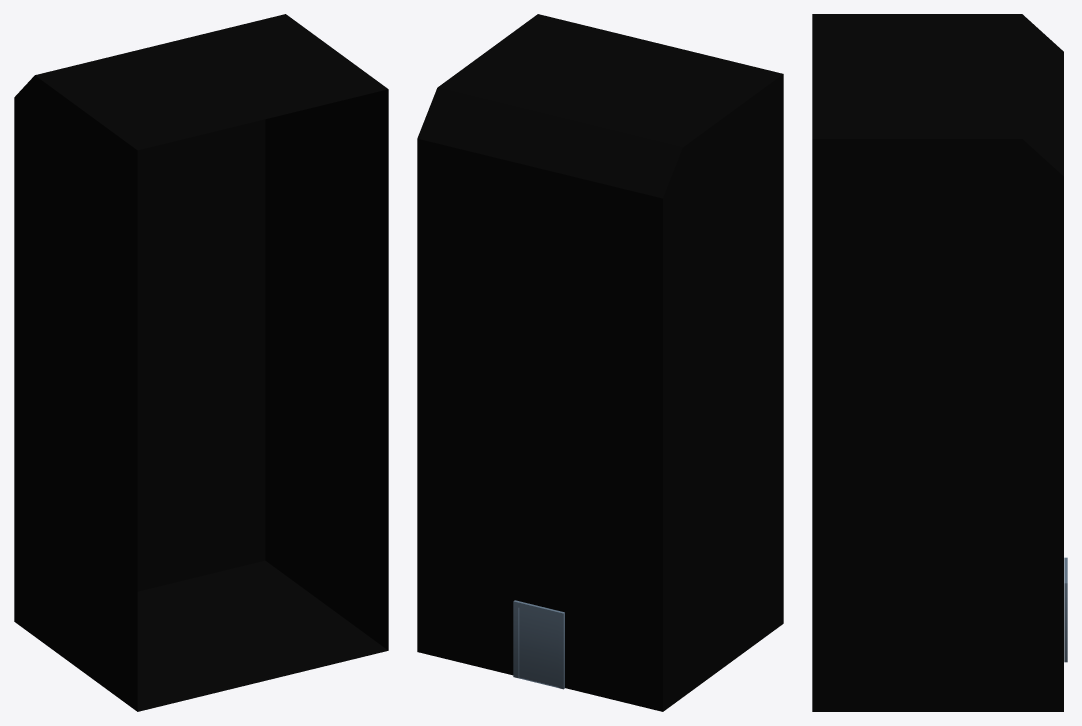
Rendered from Ciudad_Edificio_04.FBX.
3 views of the same model, side by side, from view 1: azimuth 30°, elevation 25°; view 2: azimuth 150°, elevation 25°; view 3: azimuth 270°, elevation 25° (orthographic). The views are drawn at different scales.
Parts seen in each view (by area): view 1: Ciudad_Edificio_04; view 2: Ciudad_Edificio_04; view 3: Ciudad_Edificio_04.
Part boxes in pixels (left/top/right/bottom): Ciudad_Edificio_04: left=14, top=14, right=388, bottom=711; Ciudad_Edificio_04: left=417, top=14, right=783, bottom=711; Ciudad_Edificio_04: left=812, top=14, right=1067, bottom=711.
Bounding box in the file's own units: 908 × 783 × 1942.
